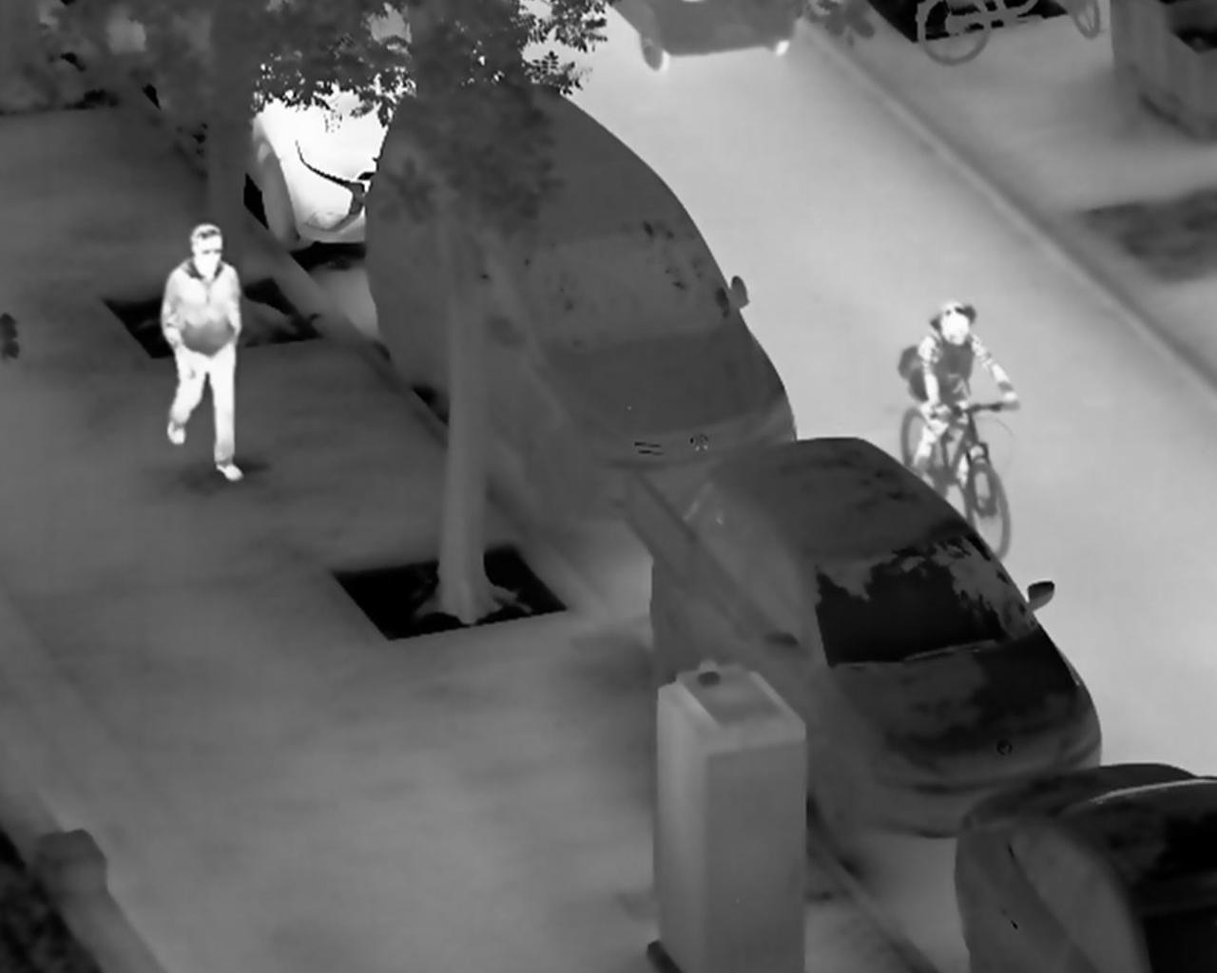person: (159, 220, 247, 486), (909, 296, 1021, 491)
